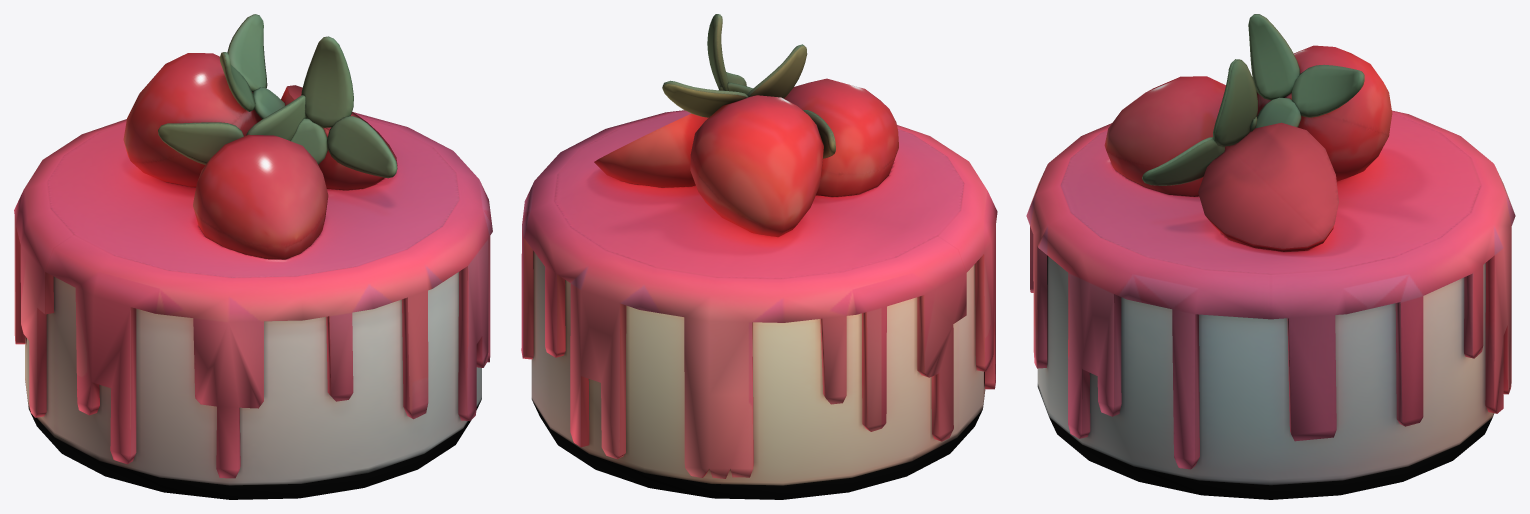
File: dangao.FBX
The picture shows the model from 3 angles, left to right: view 1: azimuth 30°, elevation 25°; view 2: azimuth 150°, elevation 25°; view 3: azimuth 270°, elevation 25°; orthographic projection. The views are drawn at different scales.
Parts seen in each view (by area): view 1: dangao; view 2: dangao; view 3: dangao.
Boxes of the visible parts, x1,y1,x2,y2 form: dangao: (14,14,492,499); dangao: (521,14,997,499); dangao: (1026,14,1515,499).
Size of the model in its own units: 49.25 by 41.56 by 49.24.
